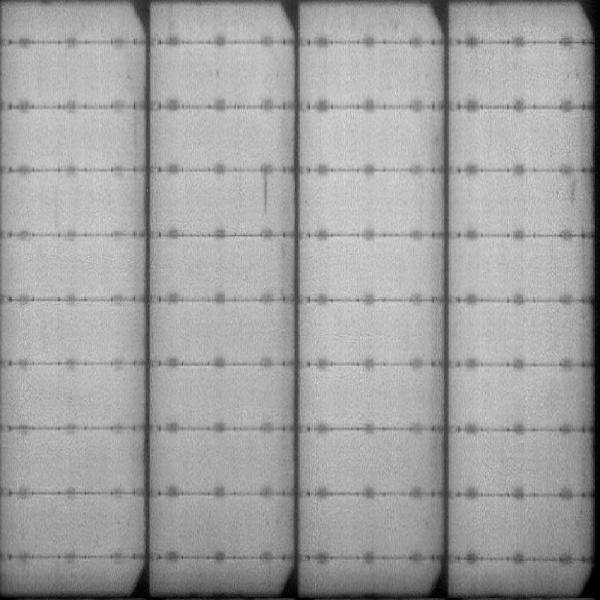scratch: (256, 172, 273, 214)
